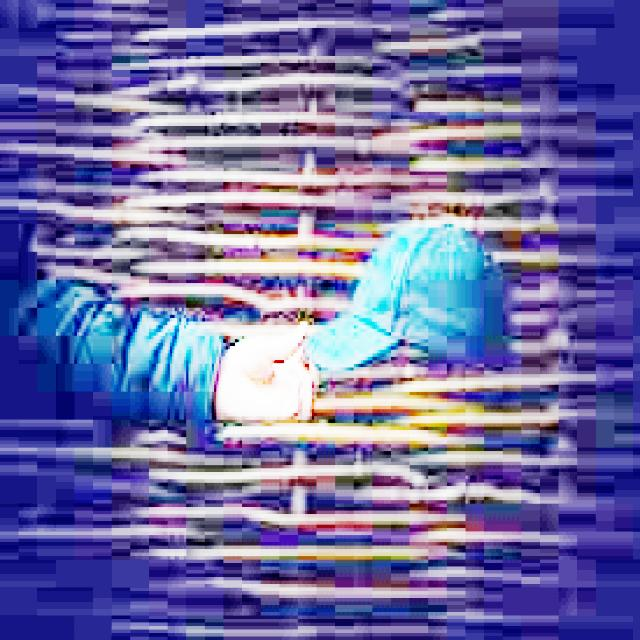TOPI: (294, 199, 522, 385)
